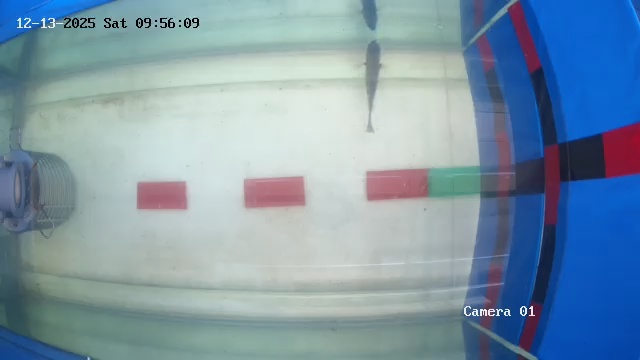fish: (347, 38, 392, 129)
